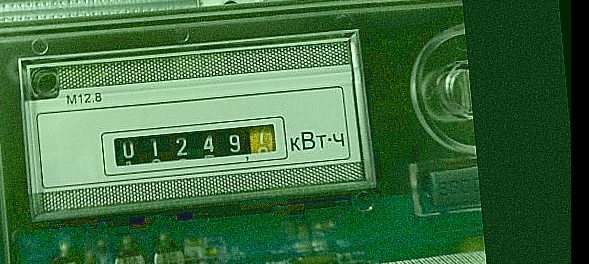0: (119, 138, 135, 159)
1: (146, 136, 160, 158)
2: (171, 134, 189, 158)
4: (200, 132, 215, 153)
7: (254, 124, 269, 145)
9: (226, 132, 241, 154)
screen: (96, 111, 291, 178)
